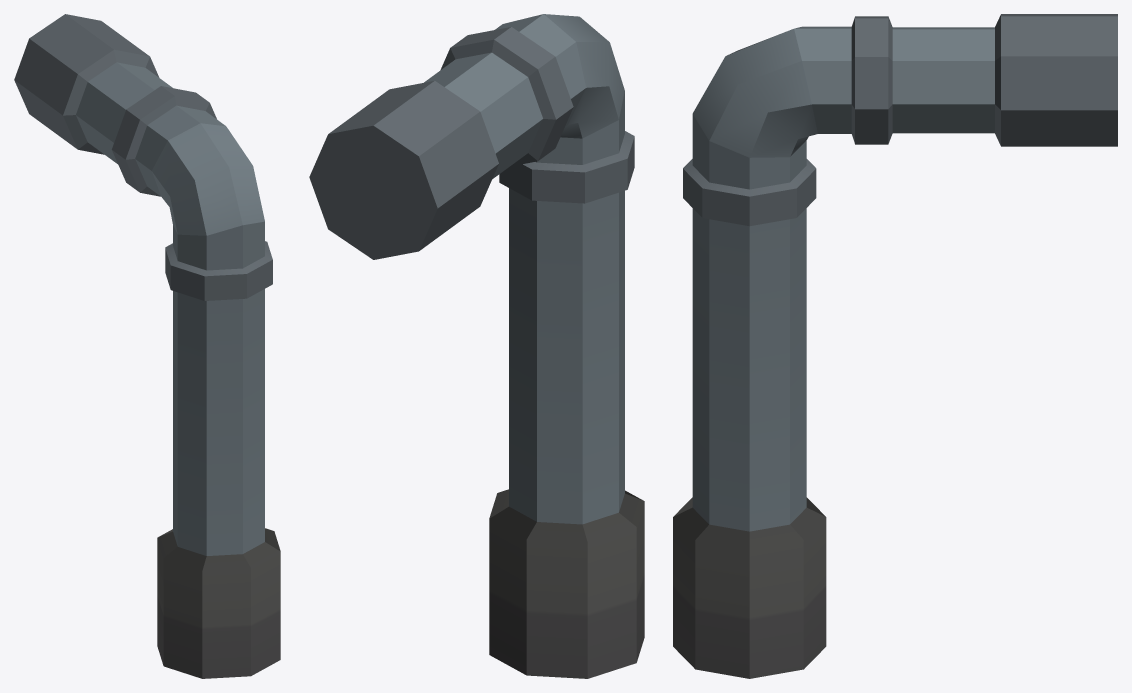
Rendered from SM_Bld_GasTower_Pipe_03.glb.
3 renders of one model, left to right at view 1: azimuth 30°, elevation 25°; view 2: azimuth 150°, elevation 25°; view 3: azimuth 270°, elevation 25°, orthographic. The views are drawn at different scales.
Visible parts, largest first — view 1: SM_Bld_GasTower_Pipe_03; view 2: SM_Bld_GasTower_Pipe_03; view 3: SM_Bld_GasTower_Pipe_03.
Part boxes in pixels (box(x1,y1,x2,y2)): SM_Bld_GasTower_Pipe_03: box(14, 14, 280, 678); SM_Bld_GasTower_Pipe_03: box(309, 14, 644, 678); SM_Bld_GasTower_Pipe_03: box(673, 14, 1117, 678).
Size of the model in its own units: 1.77 by 8.02 by 5.13.
Materials: 1 (1 with a texture image).
